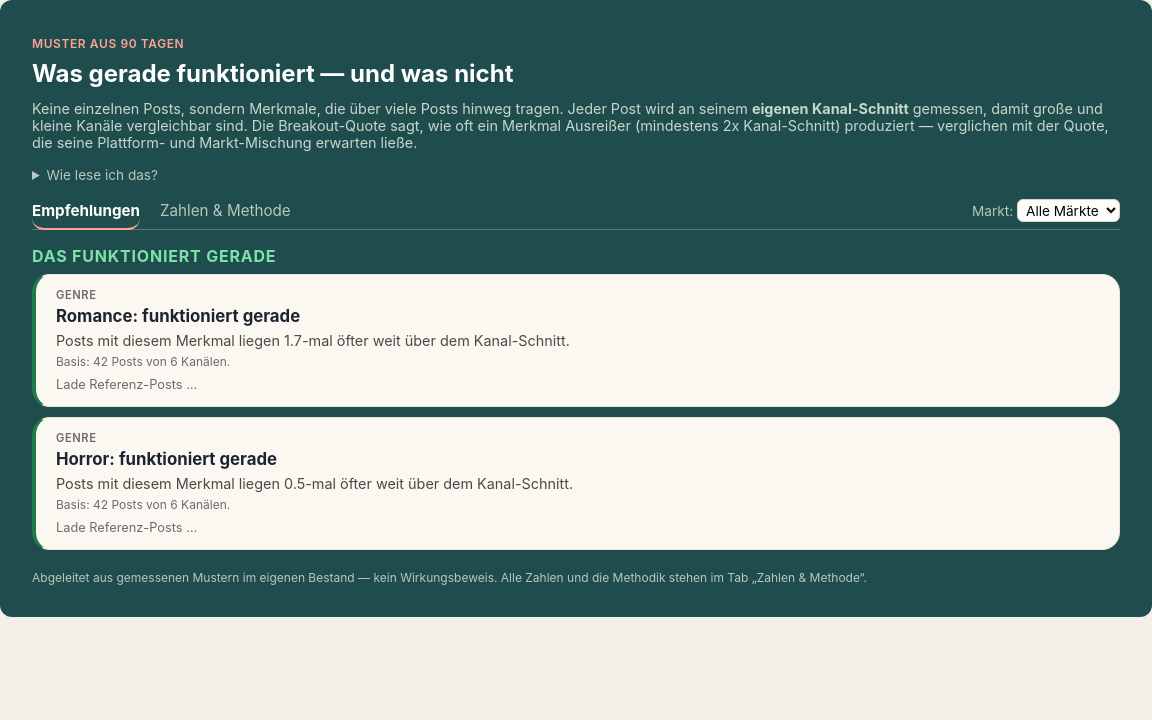
Test: PatternsBlock — Flag-Gate und Bericht › zeigt den Wochen-Trend in der Befund-Spalte
The width and height of the screenshot is (1152, 720).
Click the button "Zahlen & Methode".
click(225, 215)  # box [160, 201, 291, 230]
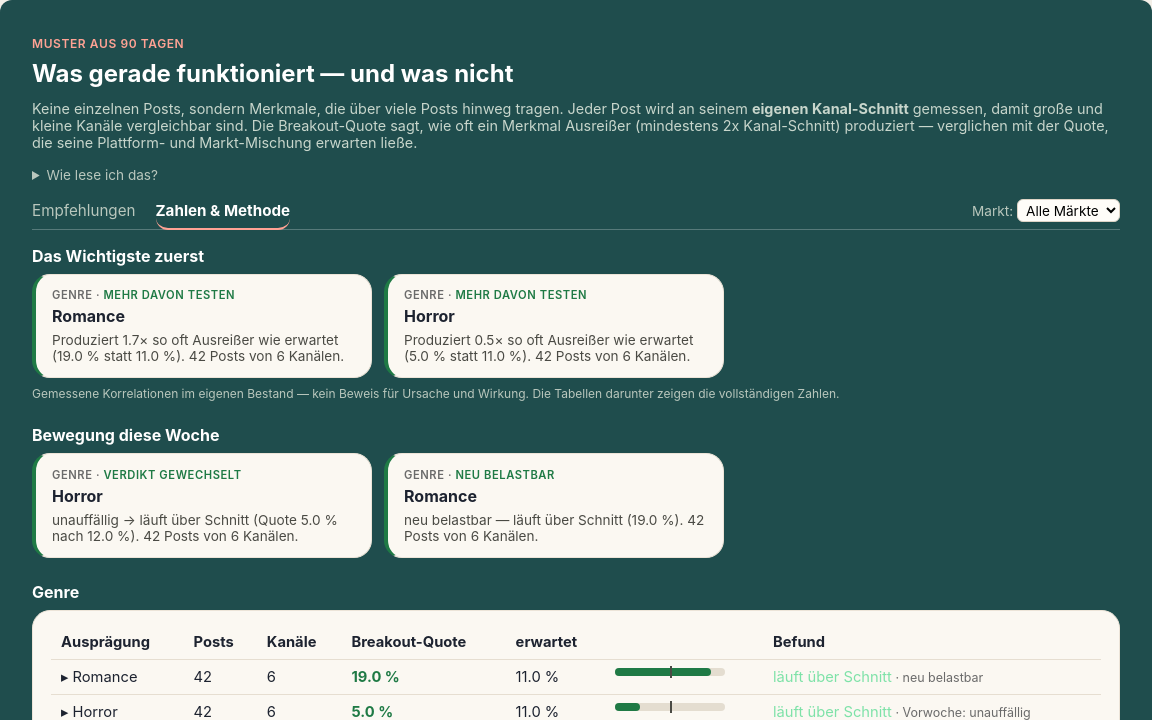
Expected: the text "· Vorwoche: unauffällig" is shown, [892, 705, 1031, 719]
